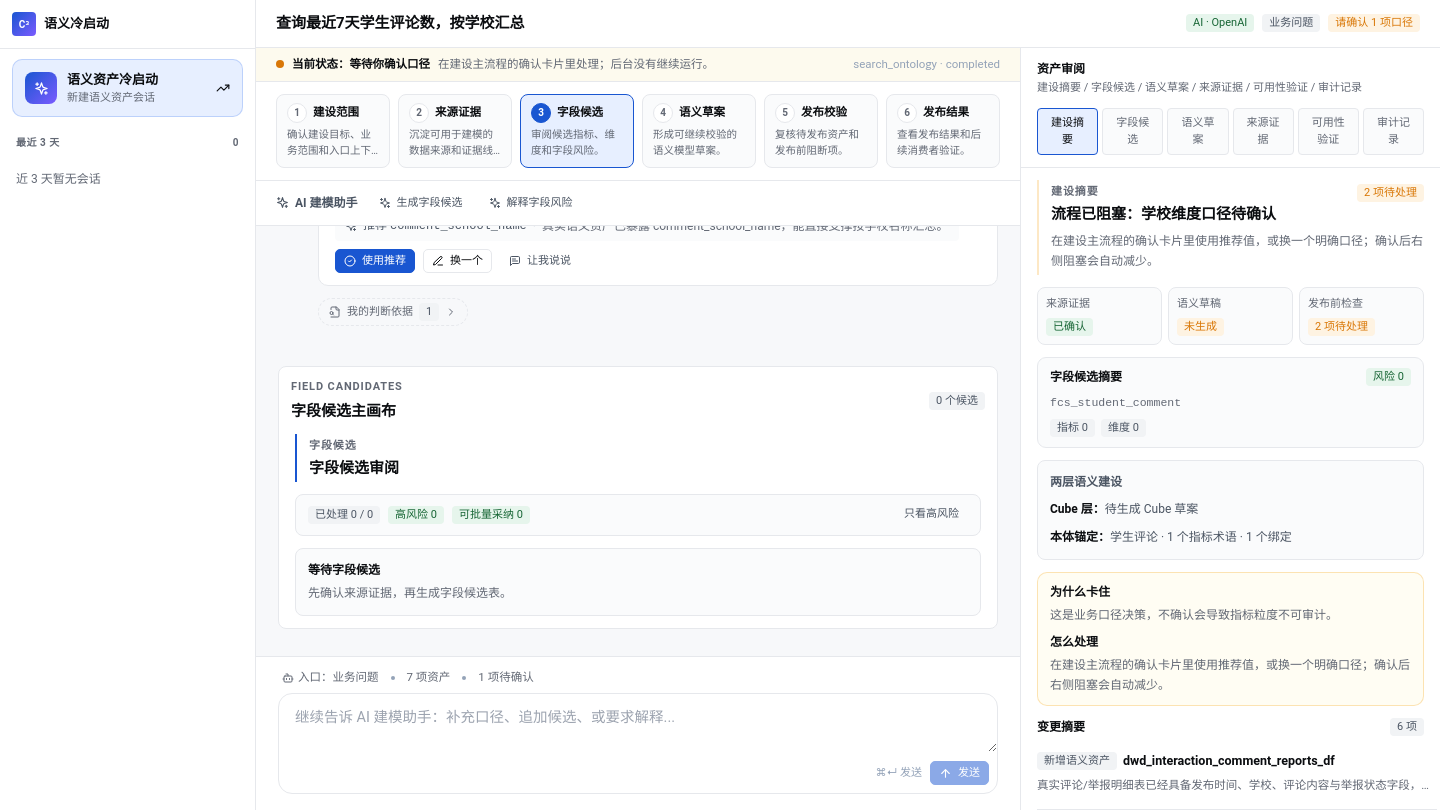
Scenario: ModelingAgent · 对话流与确认动作 › 点击字段候选 AI 动作只填入 composer，不自动发送
The image size is (1440, 810).
(page scrolled)
Click the button "生成字段候选". click: (421, 203)
box: [370,191,472,215]
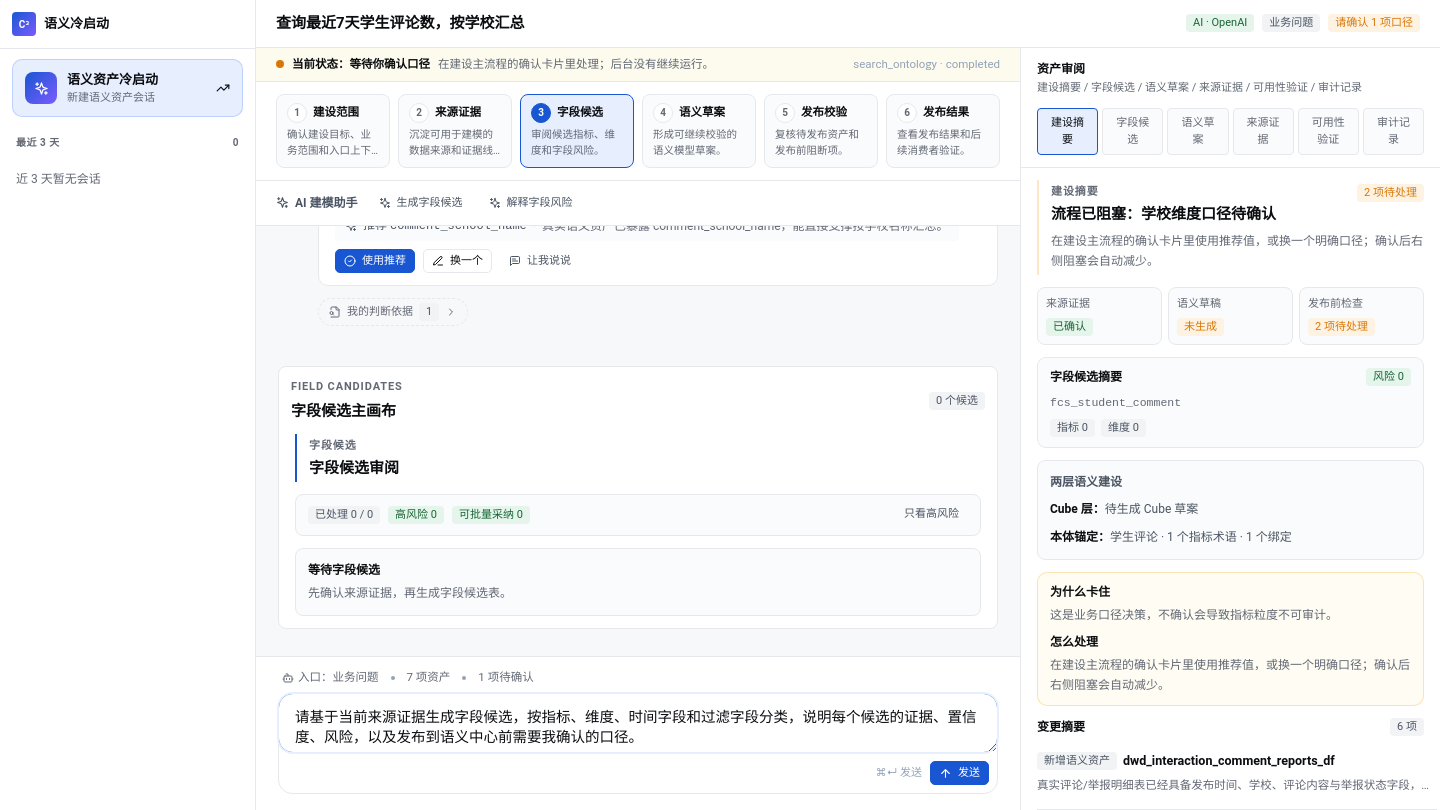
Expected: the text box named "建模目标" holds "请基于当前来源证据生成字段候选，按指标、维度、时间字段和过滤字段分类，说明每个候选的证据、置信度、风险，以及发布到语义中心前需要我确认的口径。", [279,694,997,752]
